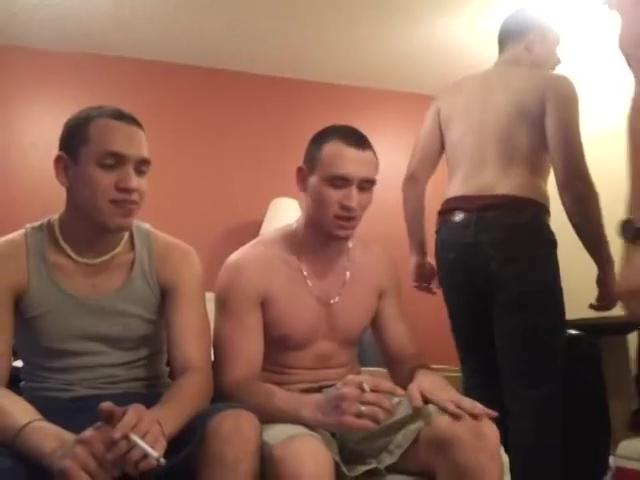cigarette: (125, 432, 170, 468), (355, 380, 372, 393)
